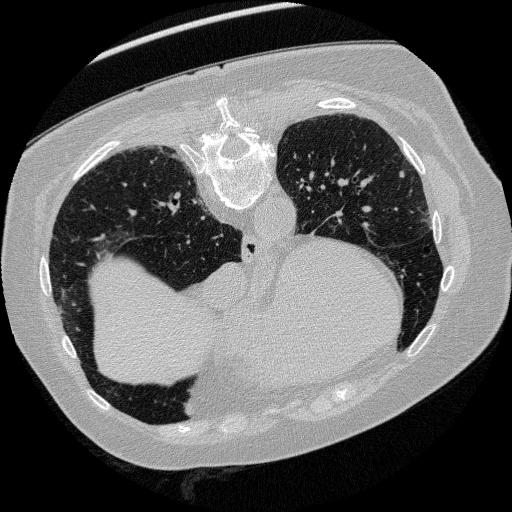nodule: (393, 169, 408, 184)
